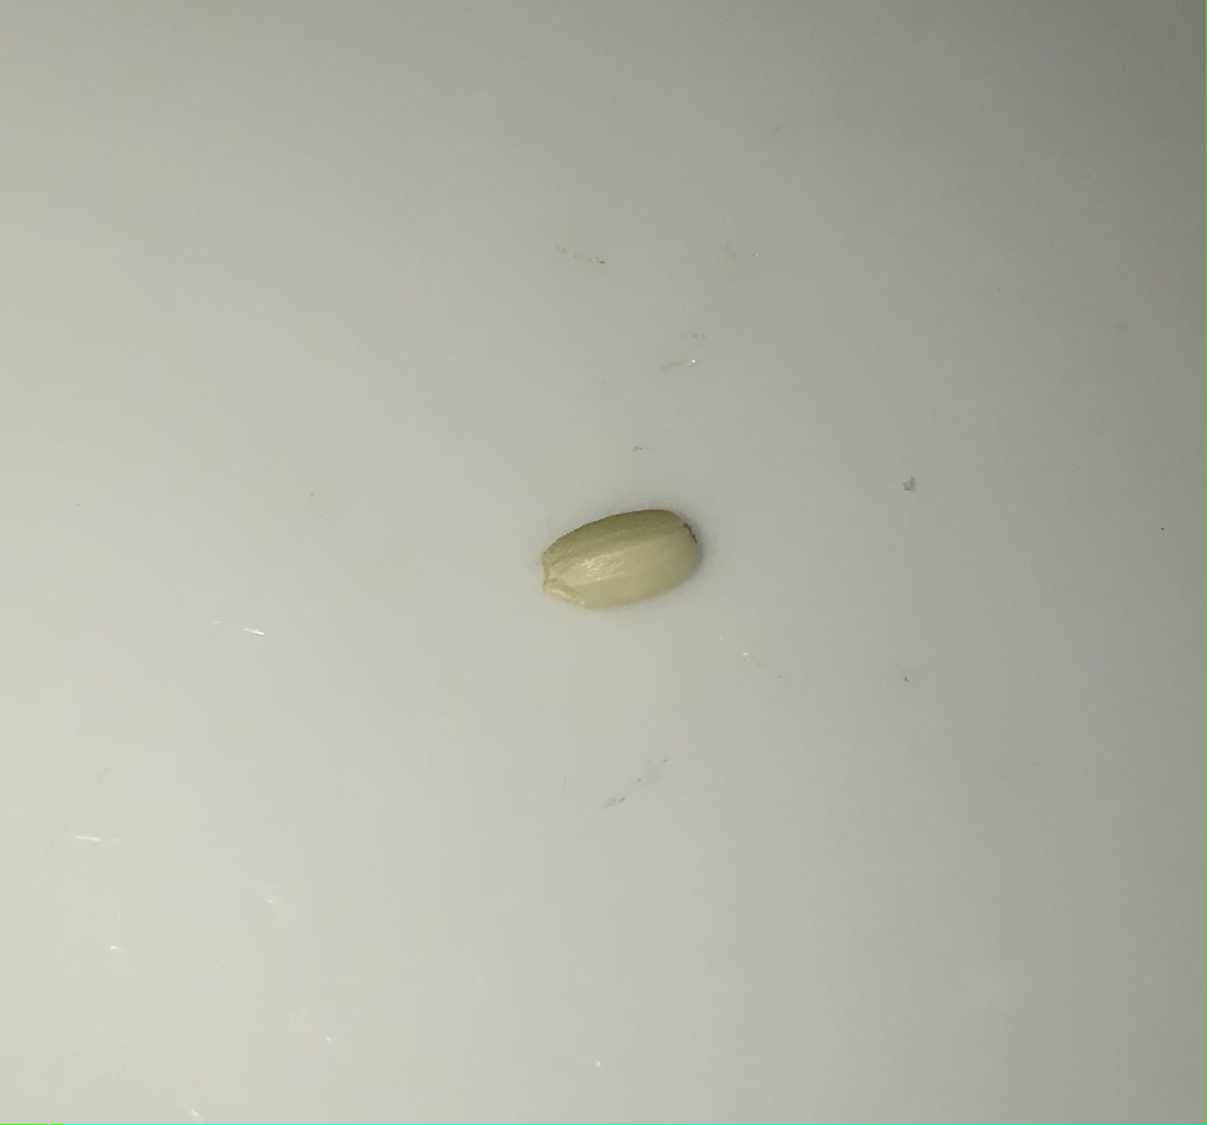Gao Lut Bac: (530, 505, 716, 628)
